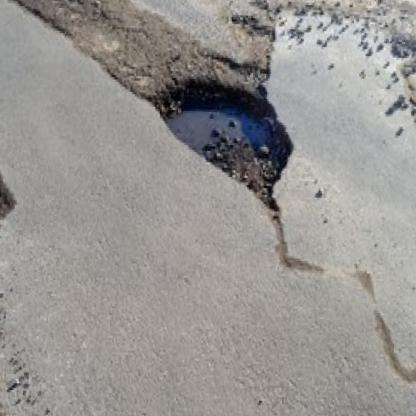pothole: (146, 75, 298, 213)
